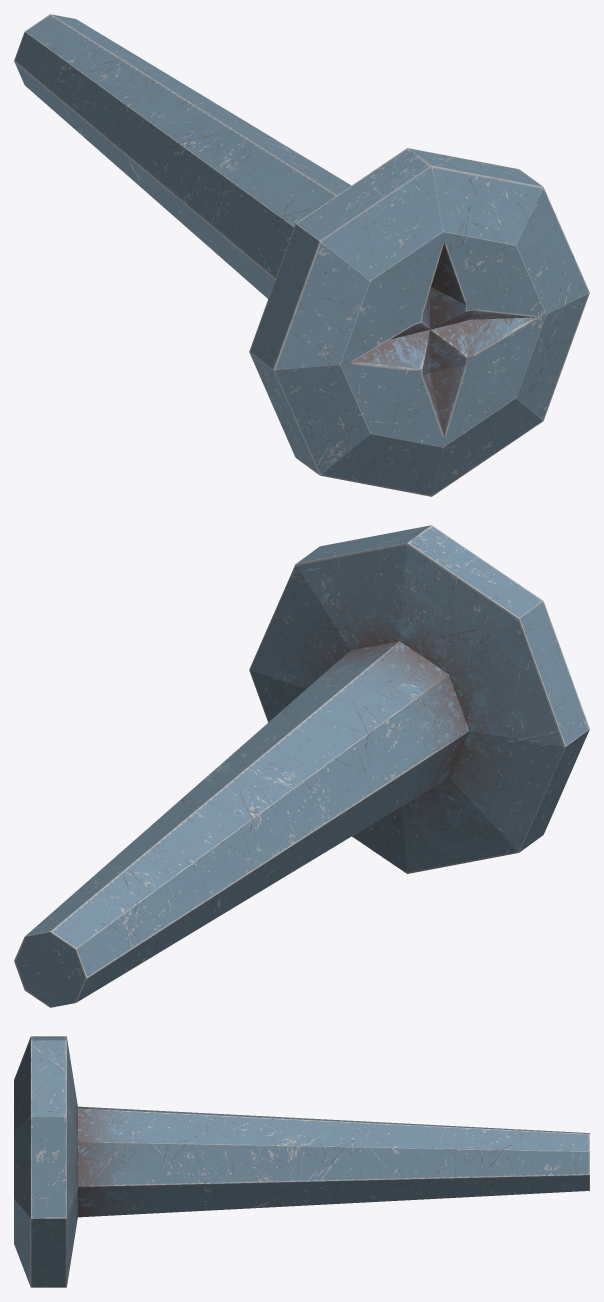
The model's file is Nail2.gltf.
3 views of the same model, one above another, from view 1: azimuth 30°, elevation 25°; view 2: azimuth 150°, elevation 25°; view 3: azimuth 270°, elevation 25° (orthographic). The views are drawn at different scales.
Parts seen in each view (by area): view 1: Cylinder.004; view 2: Cylinder.004; view 3: Cylinder.004.
Boxes of the visible parts, x1=… form: Cylinder.004: x1=14, y1=14, x2=589, y2=496; Cylinder.004: x1=14, y1=525, x2=589, y2=1007; Cylinder.004: x1=14, y1=1036, x2=589, y2=1287.
Size of the model in its own units: 1.14 by 1.14 by 2.46.
1 material, 1 textured.
